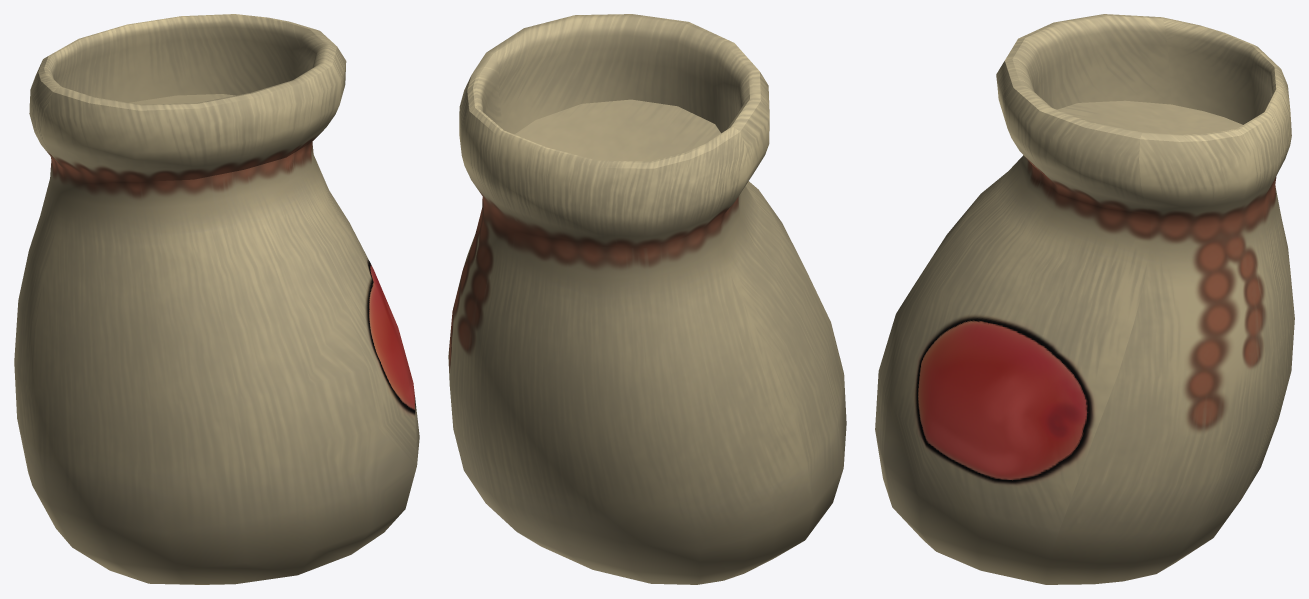
The model's file is Model_TexturaSacoAberto3Cafe_v1.fbx.
3 views of the same model, side by side, from view 1: azimuth 30°, elevation 25°; view 2: azimuth 150°, elevation 25°; view 3: azimuth 270°, elevation 25° (orthographic). The views are drawn at different scales.
Visible parts, largest first — view 1: saco parede; view 2: saco parede; view 3: saco parede.
Part boxes in pixels (bbox=[...]): saco parede: bbox=[14, 14, 419, 584]; saco parede: bbox=[448, 14, 846, 584]; saco parede: bbox=[875, 14, 1294, 584].
Bounding box in the file's own units: 217 × 299 × 231.
